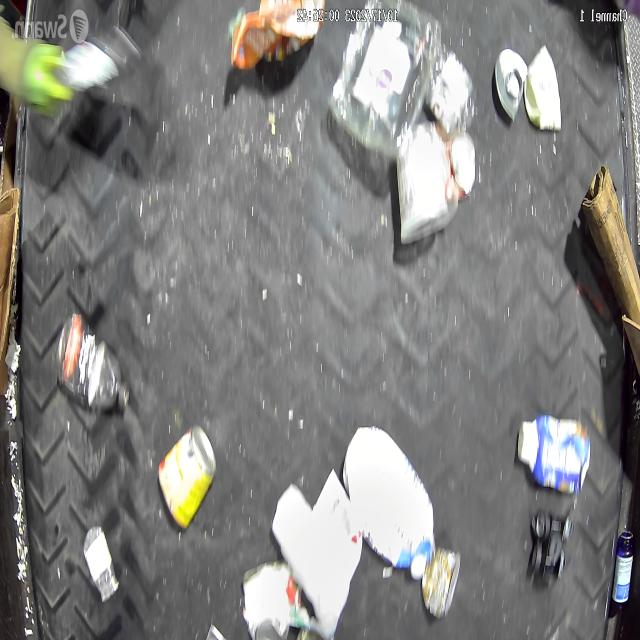can: (158, 423, 218, 528), (421, 548, 461, 619)
non_white_jug: (341, 426, 434, 579)
plastic_bottle: (56, 313, 130, 412)
